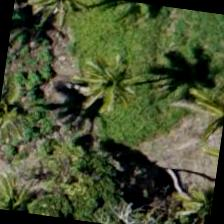Kelapa_Sawit: (71, 36, 172, 138), (0, 69, 57, 166), (145, 161, 217, 223), (9, 0, 100, 49), (0, 161, 73, 218)
